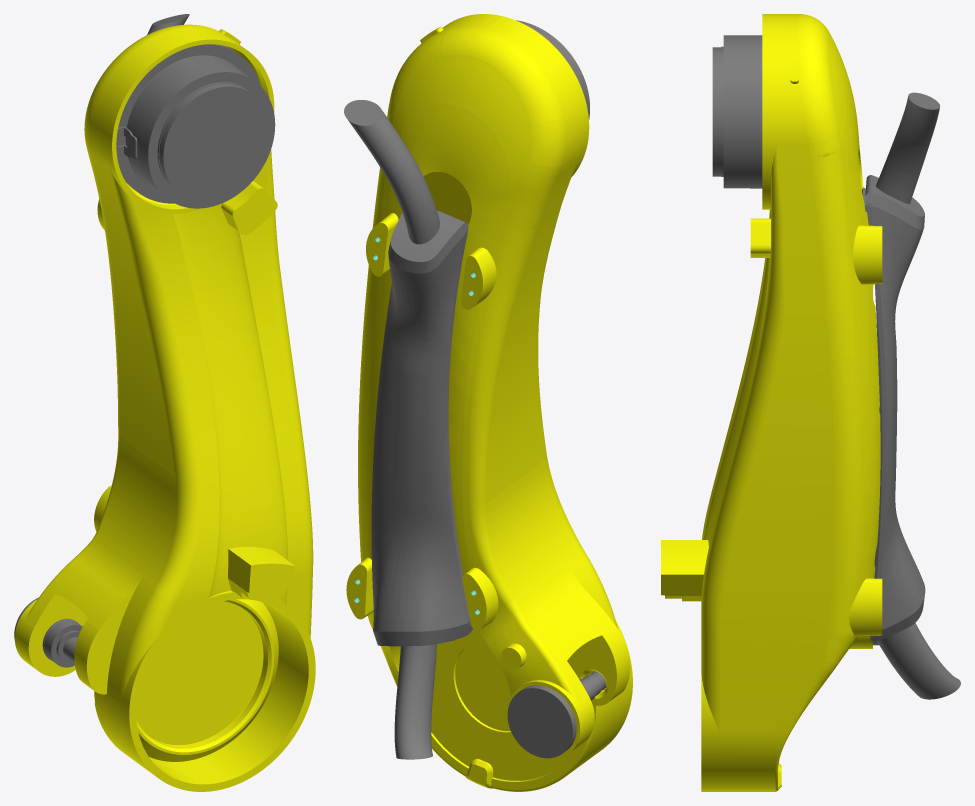
The picture shows the model from 3 angles, left to right: view 1: azimuth 30°, elevation 25°; view 2: azimuth 150°, elevation 25°; view 3: azimuth 270°, elevation 25°; orthographic projection. The views are drawn at different scales.
Visible parts, largest first — view 1: Mesh_0; view 2: Mesh_0; view 3: Mesh_0.
Part boxes in pixels (x1=…): Mesh_0: x1=14, y1=14, x2=315, y2=791; Mesh_0: x1=344, y1=14, x2=632, y2=791; Mesh_0: x1=661, y1=14, x2=960, y2=791.
Size of the model in its own units: 0.4633 by 0.5148 by 1.44.
